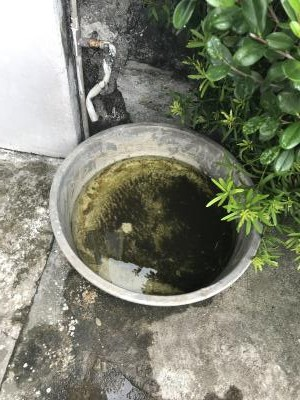bowl: (45, 119, 266, 313)
